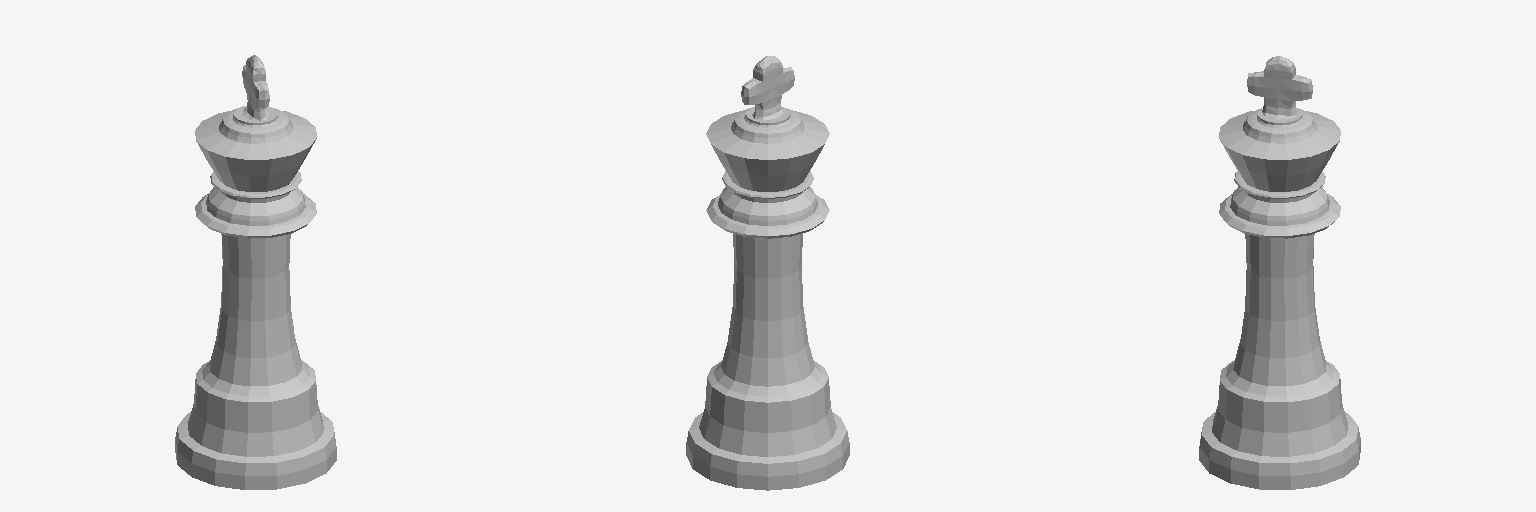
The model's file is king.obj.
3 views of the same model, side by side, from view 1: azimuth 30°, elevation 25°; view 2: azimuth 150°, elevation 25°; view 3: azimuth 270°, elevation 25° (orthographic).
Visible parts, largest first — view 1: King_Circle.004; view 2: King_Circle.004; view 3: King_Circle.004.
Boxes of the visible parts, x1=… form: King_Circle.004: x1=175, y1=55, x2=336, y2=489; King_Circle.004: x1=686, y1=56, x2=849, y2=490; King_Circle.004: x1=1199, y1=56, x2=1360, y2=489.
Size of the model in its own units: 0.886 by 2.43 by 0.886.